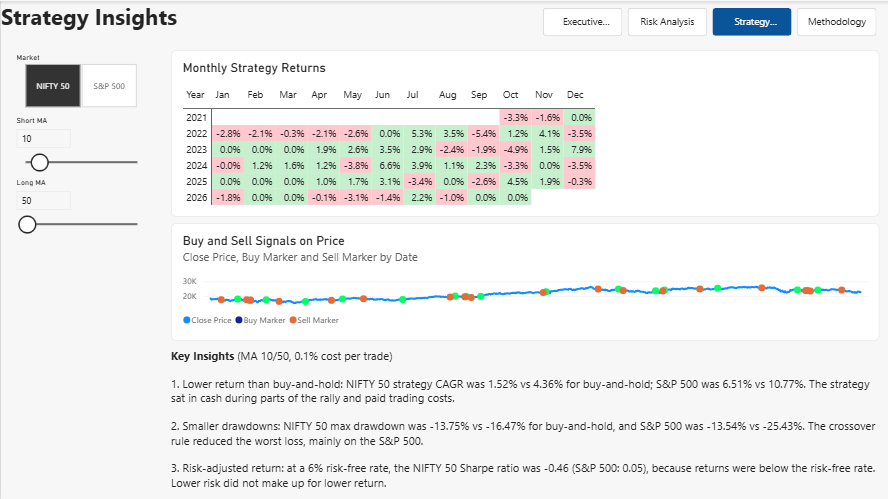

What the dashboard file says about the page in this screenshot:
{"tool":"powerbi","page":{"name":"Strategy Insights","canvas":[1280,720],"ordinal":2},"visuals":[{"type":"slicer","fields":{"Values":["DimMarket.Market"]},"box":[15,75,200,80],"z":0},{"type":"slicer","fields":{"Values":["Short MA.Short MA"]},"box":[15,165,200,80],"z":1000},{"type":"slicer","fields":{"Values":["Long MA.Long MA"]},"box":[15,255,200,80],"z":2000},{"type":"textbox","box":[0,0,750,60],"z":5000},{"type":"pivotTable","title":"Monthly Strategy Returns","fields":{"Columns":["DimDate.Month"],"Rows":["DimDate.Year"],"Values":["_Measures.Strategy Period Return"]},"box":[245,70,1020,240],"z":6000},{"type":"lineChart","title":"Buy and Sell Signals on Price","fields":{"Category":["DimDate.Date"],"Y":["_Measures.Close Price","_Measures.Buy Marker","_Measures.Sell Marker"]},"box":[245,320,1020,170],"z":7000},{"type":"textbox","box":[245,500,1020,210],"z":8000},{"type":"pageNavigator","box":[780,10,480,40],"z":9000}]}

Visuals, with their boxes in screenshot pixels (x1, y1, x2, y2), scaled from the page's 1280x720 canvas onto the 888x499 screenshot:
slicer - DimMarket.Market: bbox(10, 52, 149, 107)
slicer - Short MA.Short MA: bbox(10, 114, 149, 170)
slicer - Long MA.Long MA: bbox(10, 177, 149, 232)
textbox: bbox(0, 0, 520, 42)
"Monthly Strategy Returns" pivotTable: bbox(170, 49, 878, 215)
"Buy and Sell Signals on Price" lineChart: bbox(170, 222, 878, 340)
textbox: bbox(170, 347, 878, 492)
pageNavigator: bbox(541, 7, 874, 35)
